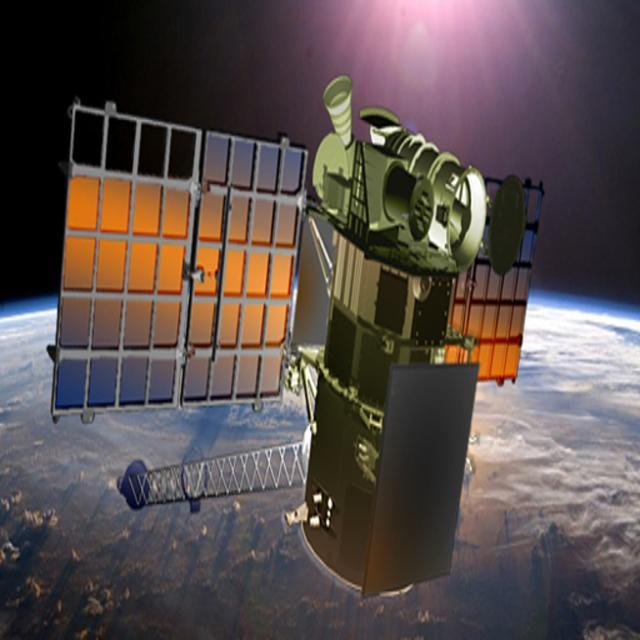sat: (44, 85, 568, 609)
